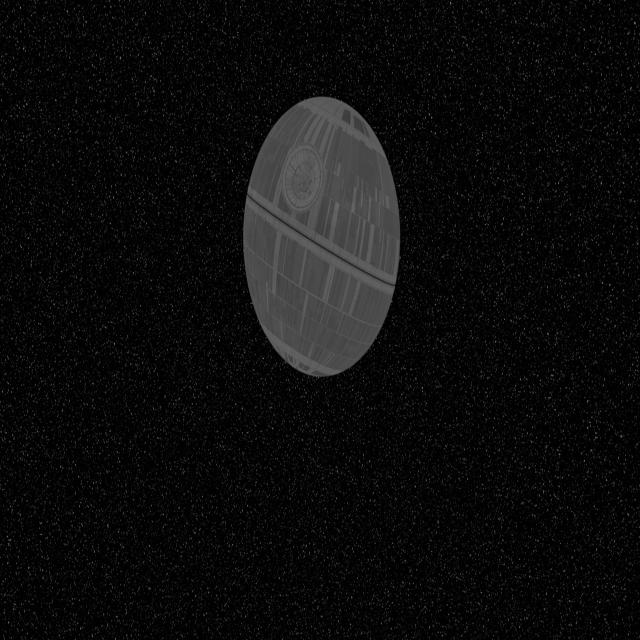death-stars: (242, 97, 401, 379)
